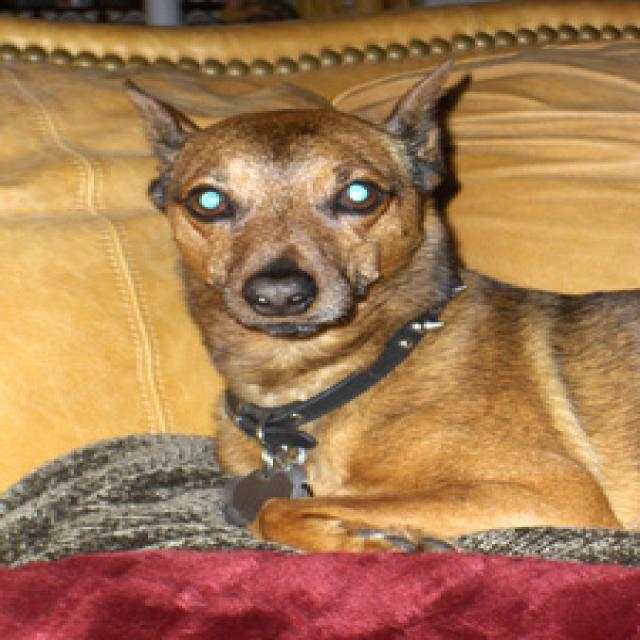dog-miniature_pinscher: (117, 53, 634, 570)
